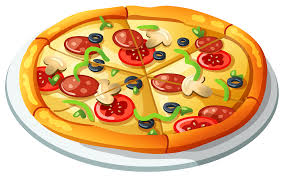pizza: (19, 9, 272, 149)
